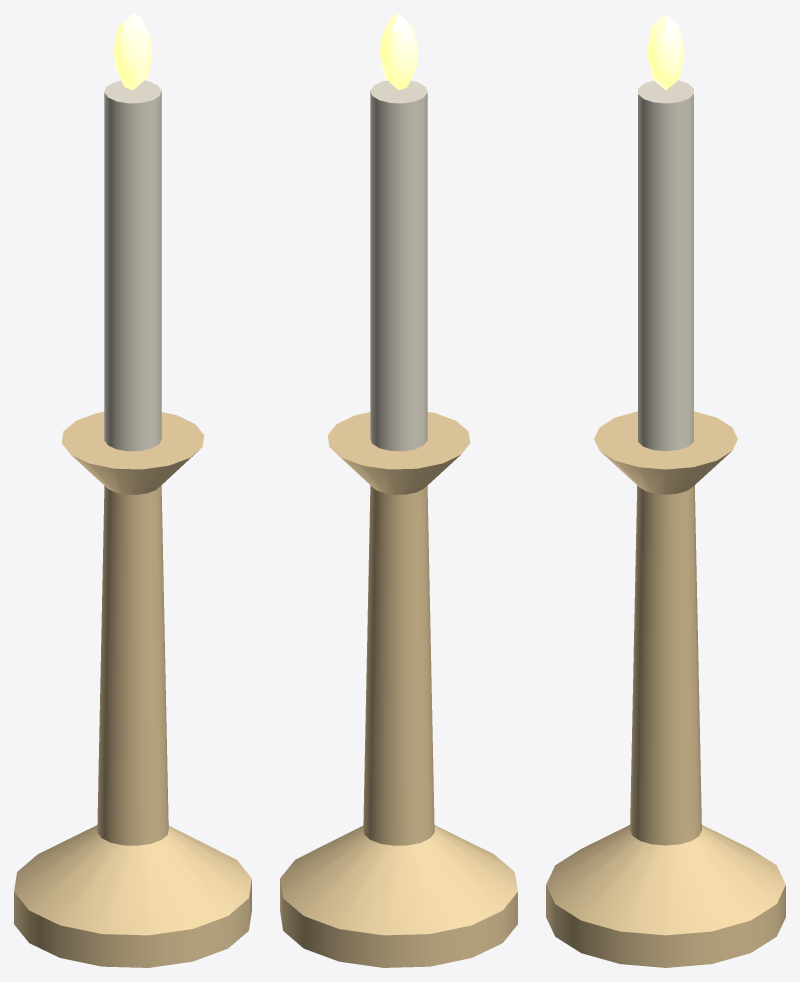
The model's file is candlestick.glb.
3 renders of one model, left to right at view 1: azimuth 30°, elevation 25°; view 2: azimuth 150°, elevation 25°; view 3: azimuth 270°, elevation 25°, orthographic.
Visible parts, largest first — view 1: Candlestick, Candle, Flame; view 2: Candlestick, Candle, Flame; view 3: Candlestick, Candle, Flame.
Boxes of the visible parts, x1,y1,x2,y2 form: Candlestick: [14, 412, 251, 967]; Candle: [104, 80, 161, 451]; Flame: [113, 14, 152, 90]; Candlestick: [280, 412, 517, 967]; Candle: [370, 80, 427, 451]; Flame: [379, 14, 418, 90]; Candlestick: [546, 411, 785, 967]; Candle: [638, 80, 693, 451]; Flame: [647, 14, 684, 89].
Bounding box in the file's own units: 0.1 × 0.4156 × 0.1.
